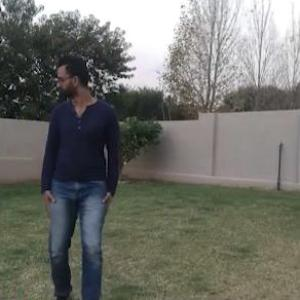follow: (32, 32, 130, 299)
